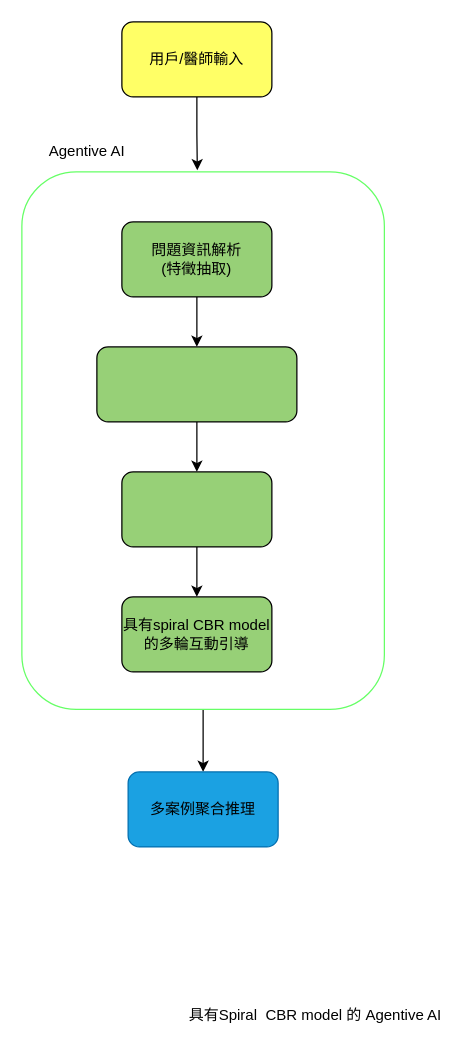
This 469x1056 diagram has some shape labels left out. Here are the shapes that lost their labels. From the top down, the centre of each, then its label:
point 196,384: 資訊檢查 (是否缺少關鍵特徵與主訴)
point 196,509: 任務拆解與參數設定
